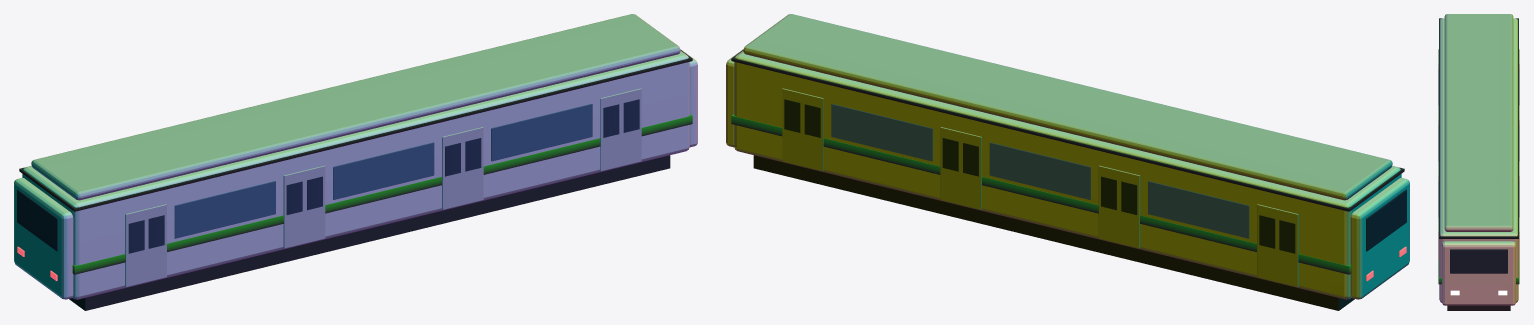
File: train.glb
3 renders of one model, left to right at view 1: azimuth 30°, elevation 25°; view 2: azimuth 150°, elevation 25°; view 3: azimuth 270°, elevation 25°, orthographic. The views are drawn at different scales.
Parts seen in each view (by area): view 1: TrainBody, TrainRoof, TrainUnder, TrainStripe, TrainCab, TrainWin_1, TrainWin_3, TrainWin_5, TrainStripe2, TrainDoor_3, TrainDoor_7, TrainDoor_1 (+11 smaller); view 2: TrainBody, TrainRoof, TrainUnder, TrainStripe, TrainCab, TrainWin, TrainWin_2, TrainWin_4, TrainStripe2, TrainDoor_2, TrainDoor_6, TrainDoor (+11 smaller); view 3: TrainRoof, TrainCab_1, TrainBody, TrainWindshield_1, TrainStripe2, TrainUnder, TrainDoor_6, TrainDoor_7, TrainStripe.
Boxes of the visible parts, box(x1,y1,x2,y2) form: TrainBody: box(22, 51, 689, 299); TrainRoof: box(31, 14, 680, 200); TrainUnder: box(69, 155, 670, 310); TrainStripe: box(72, 114, 692, 274); TrainCab: box(14, 178, 73, 299); TrainWin_1: box(174, 181, 275, 238); TrainWin_3: box(333, 142, 434, 199); TrainWin_5: box(491, 104, 592, 161); TrainStripe2: box(19, 50, 692, 211); TrainDoor_3: box(283, 165, 325, 248); TrainDoor_7: box(600, 88, 641, 171); TrainDoor_1: box(125, 204, 166, 287); TrainBody: box(734, 51, 1401, 299); TrainRoof: box(743, 14, 1392, 200); TrainUnder: box(753, 155, 1354, 310); TrainStripe: box(731, 114, 1351, 274); TrainCab: box(1350, 178, 1409, 299); TrainWin: box(1148, 181, 1249, 238); TrainWin_2: box(989, 142, 1090, 199); TrainWin_4: box(831, 104, 932, 161); TrainStripe2: box(731, 50, 1404, 211); TrainDoor_2: box(1098, 165, 1140, 248); TrainDoor_6: box(782, 88, 823, 171); TrainDoor: box(1257, 204, 1298, 287); TrainRoof: box(1444, 14, 1513, 231); TrainCab_1: box(1442, 241, 1515, 305); TrainBody: box(1439, 18, 1518, 302); TrainWindshield_1: box(1450, 249, 1507, 273); TrainStripe2: box(1439, 18, 1518, 238); TrainUnder: box(1447, 305, 1510, 310); TrainDoor_6: box(1518, 217, 1519, 284); TrainDoor_7: box(1438, 217, 1439, 284); TrainStripe: box(1439, 260, 1518, 284).
Size of the model in its own units: 20.17 by 3.65 by 3.08.
